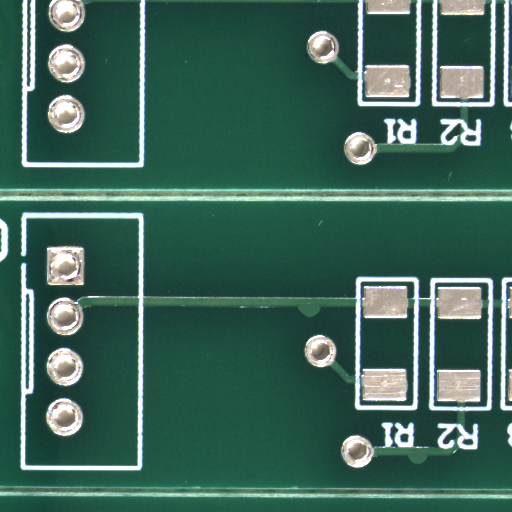Spur: (309, 310, 335, 321), (416, 459, 439, 471)
